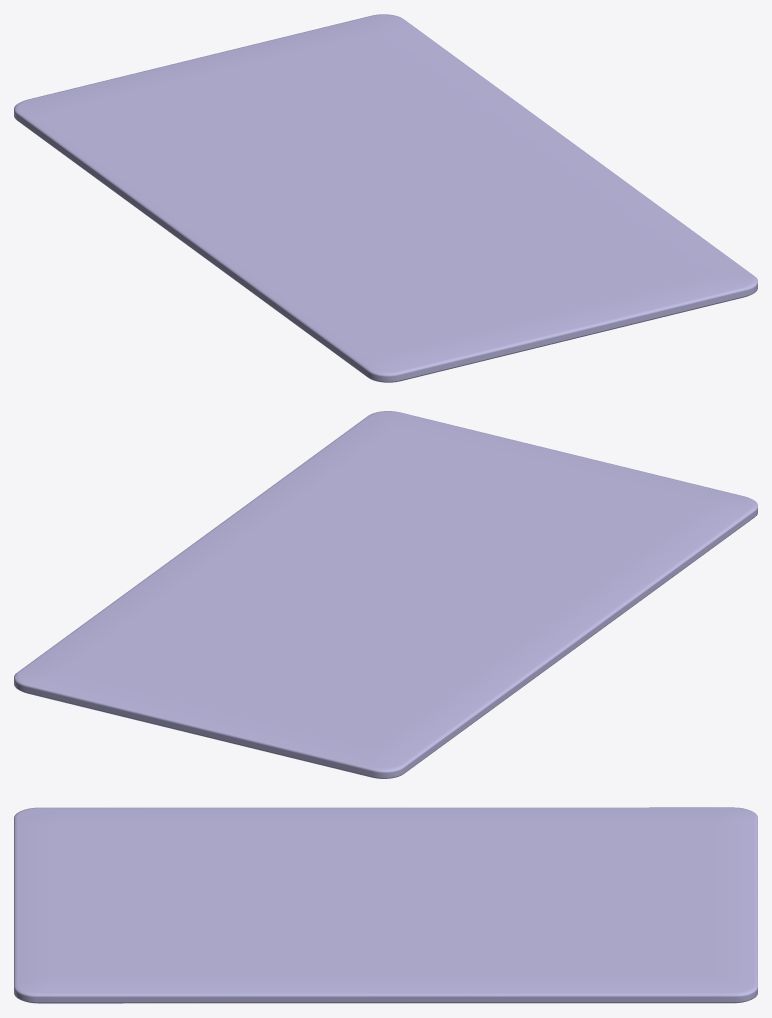
The model's file is desk_mat.fbx.
3 renders of one model, top to bottom at view 1: azimuth 30°, elevation 25°; view 2: azimuth 150°, elevation 25°; view 3: azimuth 270°, elevation 25°, orthographic.
Visible parts, largest first — view 1: desk_mat; view 2: desk_mat; view 3: desk_mat.
Part boxes in pixels (x1,y1,x2,y2): desk_mat: (14, 14, 757, 382); desk_mat: (14, 411, 757, 778); desk_mat: (14, 807, 757, 1003).
Size of the model in its own units: 559 by 13.91 by 934.
